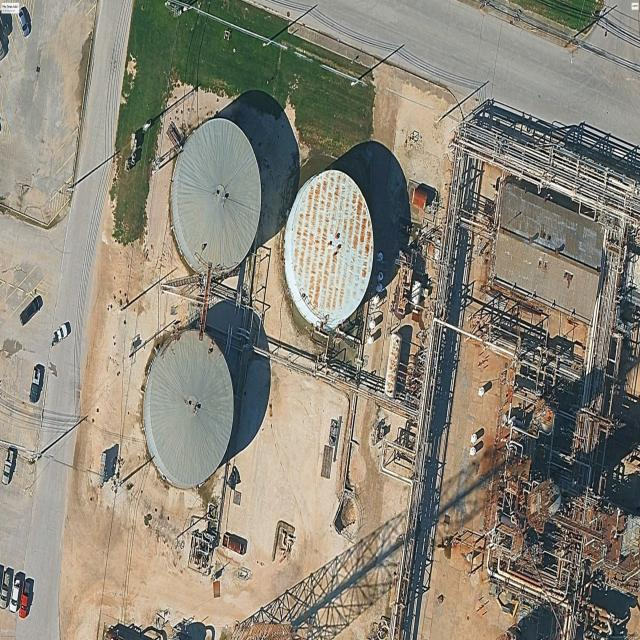Oil Rafinery: (284, 170, 374, 328), (144, 330, 234, 488), (172, 118, 261, 270)
